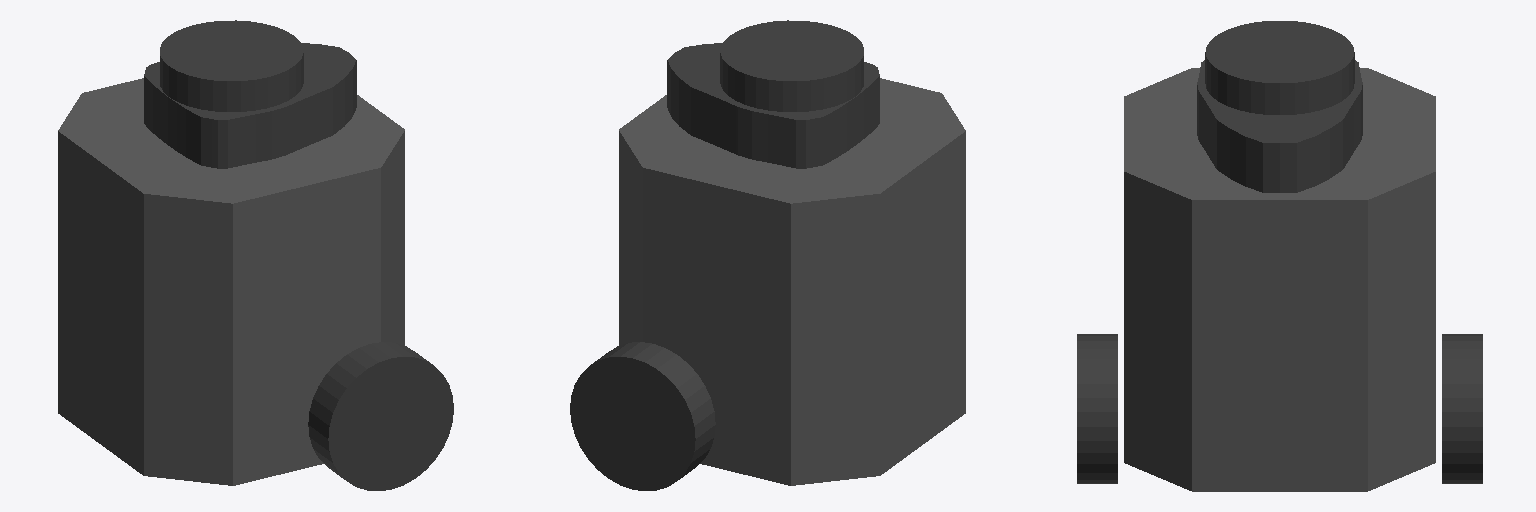
URDF robot description (turtlebot3_burger_cam):
<?xml version="1.0" ?>
<robot name="turtlebot3_burger_cam"
  xmlns:xacro="http://ros.org/wiki/xacro">
  
  <material name="black">
      <color rgba="0.0 0.0 0.0 1.0"/>
  </material>

  <material name="dark">
    <color rgba="0.3 0.3 0.3 1.0"/>
  </material>

  <material name="light_black">
    <color rgba="0.4 0.4 0.4 1.0"/>
  </material>

  <material name="blue">
    <color rgba="0.0 0.0 0.8 1.0"/>
  </material>

  <material name="green">
    <color rgba="0.0 0.8 0.0 1.0"/>
  </material>

  <material name="grey">
    <color rgba="0.5 0.5 0.5 1.0"/>
  </material>

  <material name="orange">
    <color rgba="1.0 0.4235 0.0392 1.0"/>
  </material>

  <material name="brown">
    <color rgba="0.8706 0.8118 0.7647 1.0"/>
  </material>

  <material name="red">
    <color rgba="0.8 0.0 0.0 1.0"/>
  </material>

  <material name="white">
    <color rgba="1.0 1.0 1.0 1.0"/>
  </material>

  <link name="base_footprint"/>

  <joint name="base_joint" type="fixed">
    <parent link="base_footprint"/>
    <child link="base_link"/>
    <origin xyz="0.0 0.0 0.010" rpy="0 0 0"/>
  </joint>

  <link name="base_link">
    <visual>
      <origin xyz="-0.032 0 0.0" rpy="0 0 0"/>
      <geometry>
        <mesh filename="package://turtlebot3_gazebo/models/turtlebot3_common/meshes/burger_base.dae" scale="0.001 0.001 0.001"/>
      </geometry>
      <material name="light_black"/>
    </visual>

    <collision>
      <origin xyz="-0.032 0 0.070" rpy="0 0 0"/>
      <geometry>
        <box size="0.140 0.140 0.143"/>
      </geometry>
    </collision>

    <inertial>
      <origin xyz="0 0 0" rpy="0 0 0"/>
      <mass value="8.2573504e-01"/>
      <inertia ixx="2.2124416e-03" ixy="-1.2294101e-05" ixz="3.4938785e-05" iyy="2.1193702e-03" iyz="-5.0120904e-06" izz="2.0064271e-03" />
    </inertial>
  </link>

  <joint name="wheel_left_joint" type="continuous">
    <parent link="base_link"/>
    <child link="wheel_left_link"/>
    <origin xyz="0.0 0.08 0.023" rpy="-1.57 0 0"/>
    <axis xyz="0 0 1"/>
  </joint>

  <link name="wheel_left_link">
    <visual>
      <origin xyz="0 0 0" rpy="1.57 0 0"/>
      <geometry>
        <mesh filename="package://turtlebot3_gazebo/models/turtlebot3_common/meshes/tire.dae" scale="0.001 0.001 0.001"/>
      </geometry>
      <material name="dark"/>
    </visual>

    <collision>
      <origin xyz="0 0 0" rpy="0 0 0"/>
      <geometry>
        <cylinder length="0.018" radius="0.033"/>
      </geometry>
    </collision>

    <inertial>
      <origin xyz="0 0 0" />
      <mass value="2.8498940e-02" />
      <inertia ixx="1.1175580e-05" ixy="-4.2369783e-11" ixz="-5.9381719e-09" iyy="1.1192413e-05" iyz="-1.4400107e-11" izz="2.0712558e-05" />
    </inertial>
  </link>

  <joint name="wheel_right_joint" type="continuous">
    <parent link="base_link"/>
    <child link="wheel_right_link"/>
    <origin xyz="0.0 -0.080 0.023" rpy="-1.57 0 0"/>
    <axis xyz="0 0 1"/>
  </joint>

  <link name="wheel_right_link">
    <visual>
      <origin xyz="0 0 0" rpy="1.57 0 0"/>
      <geometry>
        <mesh filename="package://turtlebot3_gazebo/models/turtlebot3_common/meshes/tire.dae" scale="0.001 0.001 0.001"/>
      </geometry>
      <material name="dark"/>
    </visual>

    <collision>
      <origin xyz="0 0 0" rpy="0 0 0"/>
      <geometry>
        <cylinder length="0.018" radius="0.033"/>
      </geometry>
    </collision>

    <inertial>
      <origin xyz="0 0 0" />
      <mass value="2.8498940e-02" />
      <inertia ixx="1.1175580e-05" ixy="-4.2369783e-11" ixz="-5.9381719e-09" iyy="1.1192413e-05" iyz="-1.4400107e-11" izz="2.0712558e-05" />
    </inertial>
  </link>

  <joint name="caster_back_joint" type="fixed">
    <parent link="base_link"/>
    <child link="caster_back_link"/>
    <origin xyz="-0.081 0 -0.004" rpy="-1.57 0 0"/>
  </joint>

  <link name="caster_back_link">
    <collision>
      <origin xyz="0 0.001 0" rpy="0 0 0"/>
      <geometry>
        <box size="0.030 0.009 0.020"/>
      </geometry>
    </collision>

    <inertial>
      <origin xyz="0 0 0" />
      <mass value="0.005" />
      <inertia ixx="0.001" ixy="0.0" ixz="0.0" iyy="0.001" iyz="0.0" izz="0.001" />
    </inertial>
  </link>

  <joint name="imu_joint" type="fixed">
    <parent link="base_link"/>
    <child link="imu_link"/>
    <origin xyz="-0.032 0 0.068" rpy="0 0 0"/>
  </joint>

  <link name="imu_link"/>

  <joint name="scan_joint" type="fixed">
    <parent link="base_link"/>
    <child link="base_scan"/>
    <origin xyz="-0.032 0 0.172" rpy="0 0 0"/>
  </joint>

  <link name="base_scan">
    <visual>
      <origin xyz="0 0 0.0" rpy="0 0 0"/>
      <geometry>
        <mesh filename="package://turtlebot3_gazebo/models/turtlebot3_common/meshes/lds.dae" scale="0.001 0.001 0.001"/>
      </geometry>
      <material name="dark"/>
    </visual>

    <collision>
      <origin xyz="0.015 0 -0.0065" rpy="0 0 0"/>
      <geometry>
        <cylinder length="0.0315" radius="0.055"/>
      </geometry>
    </collision>

    <inertial>
      <mass value="0.114" />
      <origin xyz="0 0 0" />
      <inertia ixx="0.001" ixy="0.0" ixz="0.0" iyy="0.001" iyz="0.0" izz="0.001" />
    </inertial>
  </link>
  
  <joint name="camera_joint" type="fixed">
    <origin xyz="0.040 -0.000 0.110" rpy="0 0 0"/>
    <parent link="base_link"/>
    <child link="camera_link"/>
  </joint>

  <link name="camera_link">
    <collision>
      <origin xyz="0.005 0.000 0.013" rpy="0 0 0"/>
      <geometry>
        <box size="0.015 0.030 0.027"/>
      </geometry>
    </collision>
  </link>

  <joint name="camera_rgb_joint" type="fixed">
    <origin xyz="0.003 0.000 0.009" rpy="0 0 0"/>
    <parent link="camera_link"/>
    <child link="camera_rgb_frame"/>
  </joint>
  <link name="camera_rgb_frame"/>

  <joint name="camera_rgb_optical_joint" type="fixed">
    <origin xyz="0 0 0" rpy="-1.5707 0 -1.57"/>
    <parent link="camera_rgb_frame"/>
    <child link="camera_rgb_optical_frame"/>
  </joint>
  <link name="camera_rgb_optical_frame"/>

</robot>

--- Facts derived from the render (not from the file) ---
Views: 3 orthographic renders of the robot side by side, from view 1: azimuth 30°, elevation 25°; view 2: azimuth 150°, elevation 25°; view 3: azimuth 270°, elevation 25°.
Model turtlebot3_burger_cam with 10 links and 9 joints (2 continuous, 7 fixed), rooted at base_footprint, posed all joints at 0.
Visible links, largest first — view 1: base_link, base_scan, wheel_right_link; view 2: base_link, base_scan, wheel_left_link; view 3: base_link, base_scan, wheel_left_link, wheel_right_link.
Boxes of the visible links, left/top/right/bottom form: base_link: left=58, top=78, right=404, bottom=485; base_scan: left=144, top=20, right=356, bottom=168; wheel_right_link: left=308, top=342, right=453, bottom=490; base_link: left=619, top=78, right=965, bottom=485; base_scan: left=667, top=20, right=879, bottom=168; wheel_left_link: left=570, top=342, right=715, bottom=490; base_link: left=1124, top=68, right=1435, bottom=491; base_scan: left=1197, top=21, right=1362, bottom=192; wheel_left_link: left=1442, top=334, right=1482, bottom=483; wheel_right_link: left=1077, top=334, right=1117, bottom=483.
Bounding box of the posed robot: 0.1369 × 0.1782 × 0.1908 m (x, y, z).
4 mesh visuals loaded from 3 distinct referenced files (3 Collada DAE).